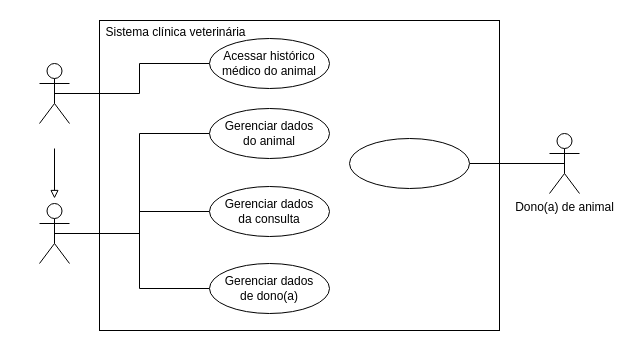
The diagram is 631 pixels wide and 348 high, and some of its shapes have lost their labels. Here are the shapes that lost their labels. From the top down, the centre of each, then its label:
the point at 54,93: Veterinário(a)
the point at 409,163: Pagar conta
the point at 54,233: Recepcionista
